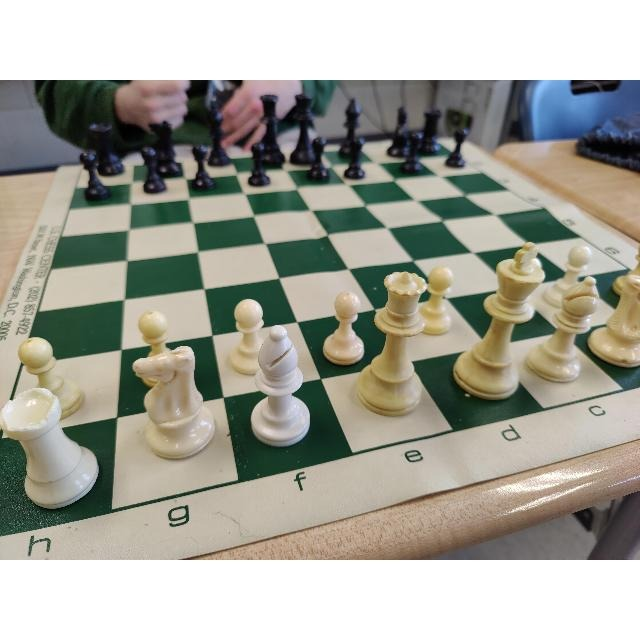black-bishop: (206, 102, 232, 167), (338, 98, 361, 159)
black-king: (290, 94, 316, 166)
black-knight: (148, 122, 182, 178), (387, 107, 411, 156)
black-pawn: (80, 150, 112, 202), (141, 147, 166, 194), (191, 145, 217, 189), (306, 137, 330, 181), (399, 131, 424, 173), (249, 141, 270, 186), (345, 137, 365, 179), (446, 129, 468, 167)
black-queen: (253, 95, 286, 167)
black-rook: (89, 123, 125, 175), (420, 110, 443, 155)
white-bishop: (528, 276, 600, 383), (251, 325, 311, 449)
white-king: (452, 242, 547, 401)
white-knight: (132, 345, 215, 460), (588, 275, 640, 368)
white-pawn: (17, 337, 85, 421), (324, 291, 364, 364), (229, 299, 265, 374), (139, 311, 174, 387), (419, 266, 452, 336)
white-queen: (356, 270, 426, 417)
white-rook: (0, 386, 100, 511)
